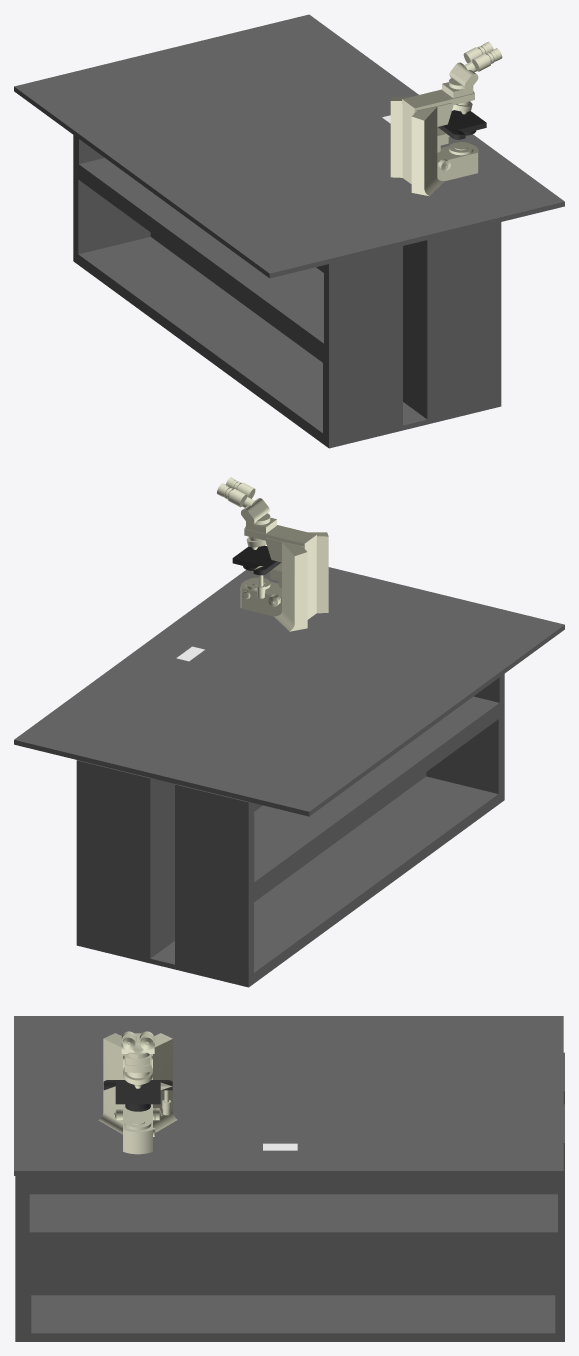
Rendered from Mic_glass.FBX.
3 renders of one model, top to bottom at view 1: azimuth 30°, elevation 25°; view 2: azimuth 150°, elevation 25°; view 3: azimuth 270°, elevation 25°, orthographic. The views are drawn at different scales.
Parts seen in each view (by area): view 1: Layer0_001, Group_006; view 2: Layer0_001, Group_006; view 3: Layer0_001, Group_006.
Boxes of the visible parts, <box> form: Layer0_001: <box>14,14,564,448</box>; Group_006: <box>390,41,502,195</box>; Layer0_001: <box>14,567,564,987</box>; Group_006: <box>217,477,328,631</box>; Layer0_001: <box>14,1016,564,1341</box>; Group_006: <box>98,1031,177,1154</box>.
Bounding box in the file's own units: 48 × 47.74 × 72.16.
